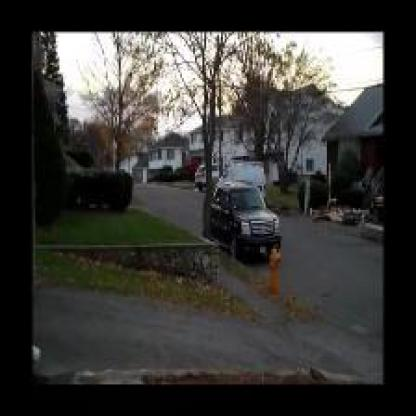other: (267, 244, 285, 298)
